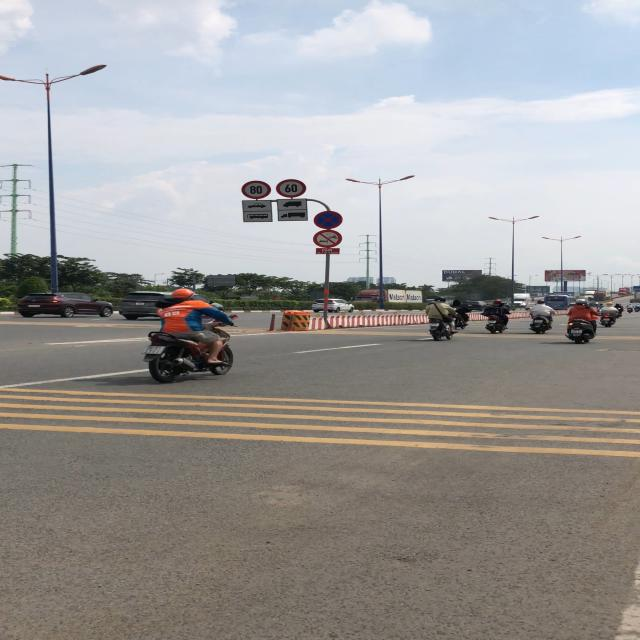Bien bao cam dung xe va do xe: (314, 210, 344, 230)
Bien bao toc do toi da cho phep: (240, 180, 273, 200), (275, 179, 307, 198)
